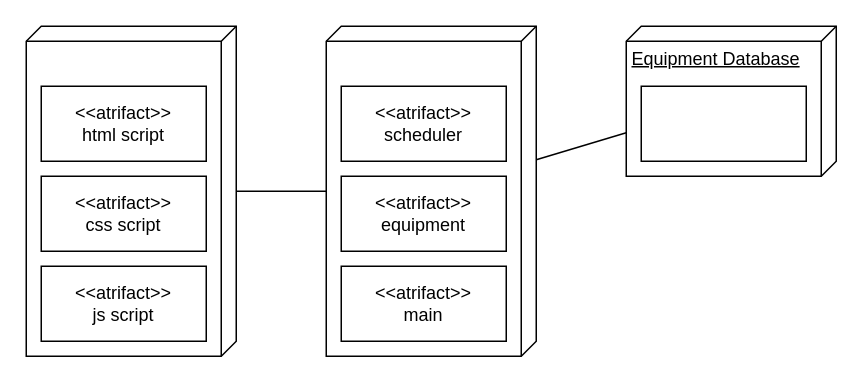
Some shapes in this 863 by 383 pixel diagram are drawn without their labels. Each missing label, with the box of its shape:
<<atrifact>> AWS Database: (640, 85, 806, 161)
Application Server: (325, 25, 536, 356)
User Application: (25, 25, 236, 356)
